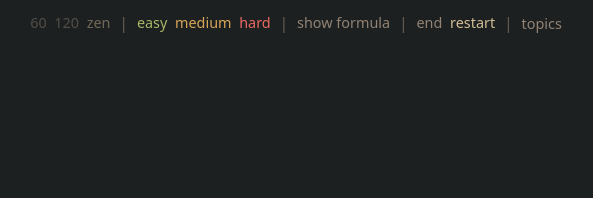
Test case: ControlBar topics menu › filters topic list by subtopic search text
Click the button "topics" at (542, 24), box [522,17,562,31]
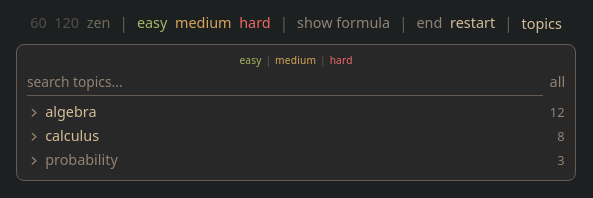
Type "integral" into the field with placeholder "search topics..." at (285, 82), box [27,69,543,96]
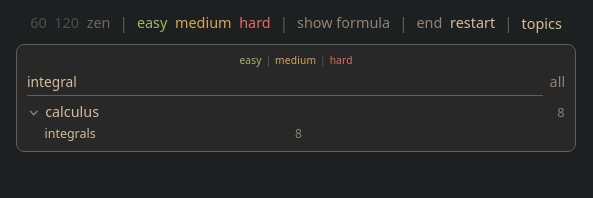
Now the text "calculus" is shown, box [45,103,99,122]
Now the text "integrals" is shown, box [44,125,96,142]
Now the button "algebra" is gone
